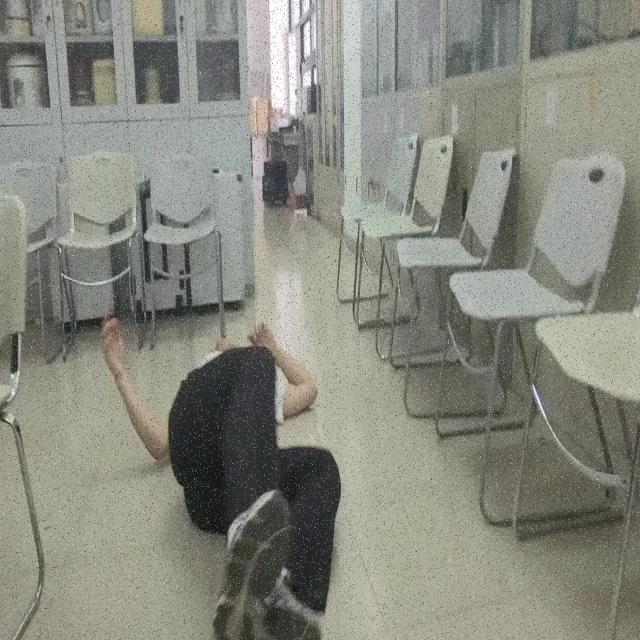fall: (99, 316, 346, 640)
